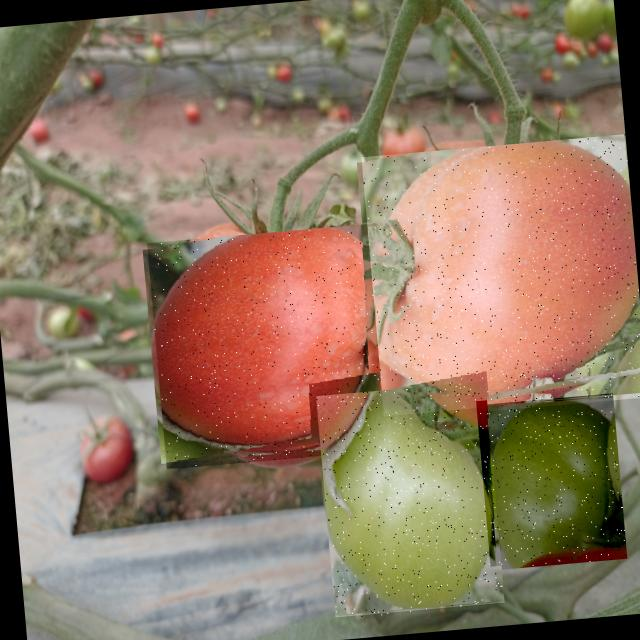Ripe Tomato: (361, 134, 640, 420), (146, 223, 392, 469)
Unripe Tomato: (316, 382, 504, 620), (476, 393, 627, 570)
